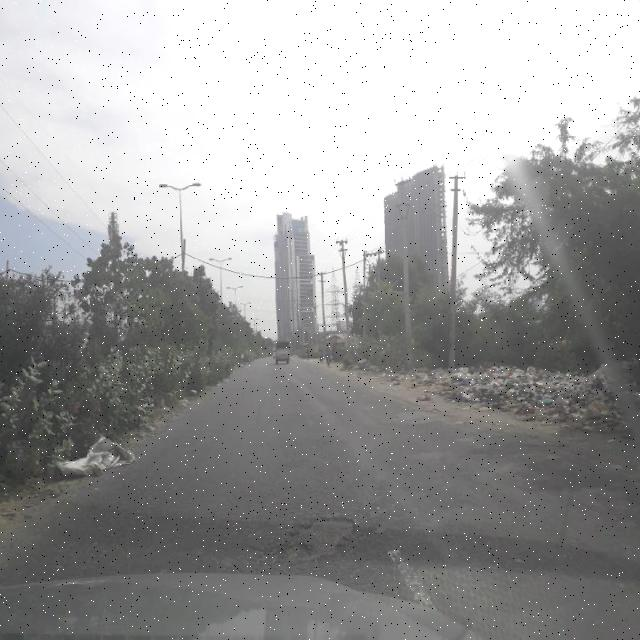D20: (228, 466, 408, 574)
D40: (292, 512, 360, 576)
D44: (394, 542, 425, 591)
